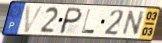2: (39, 6, 61, 34), (103, 9, 125, 36)
L: (80, 9, 96, 35)
N: (120, 10, 147, 37)
P: (58, 7, 84, 35)
V: (22, 5, 46, 34)
